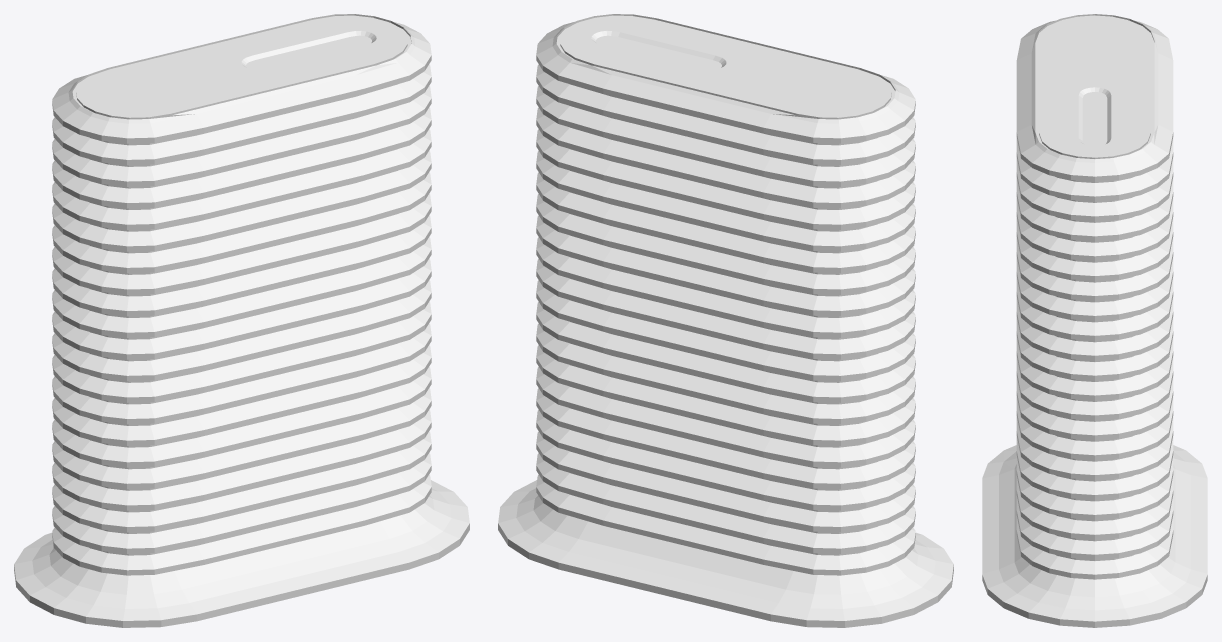
The picture shows the model from 3 angles, left to right: view 1: azimuth 30°, elevation 25°; view 2: azimuth 150°, elevation 25°; view 3: azimuth 270°, elevation 25°; orthographic projection. The views are drawn at different scales.
Visible parts, largest first — view 1: Air_Purifier; view 2: Air_Purifier; view 3: Air_Purifier.
Boxes of the visible parts, bbox=[...] form: Air_Purifier: bbox=[14, 14, 469, 627]; Air_Purifier: bbox=[498, 14, 953, 627]; Air_Purifier: bbox=[982, 14, 1207, 627].
Size of the model in its own units: 59.43 by 64.78 by 29.7.
Materials: 1 (1 with a texture image).
